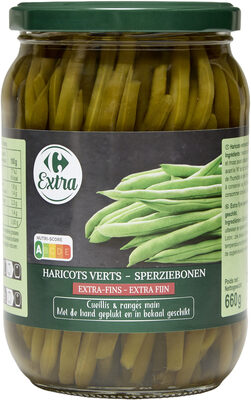Haricots verts extra-fins: (13, 20, 238, 380)
